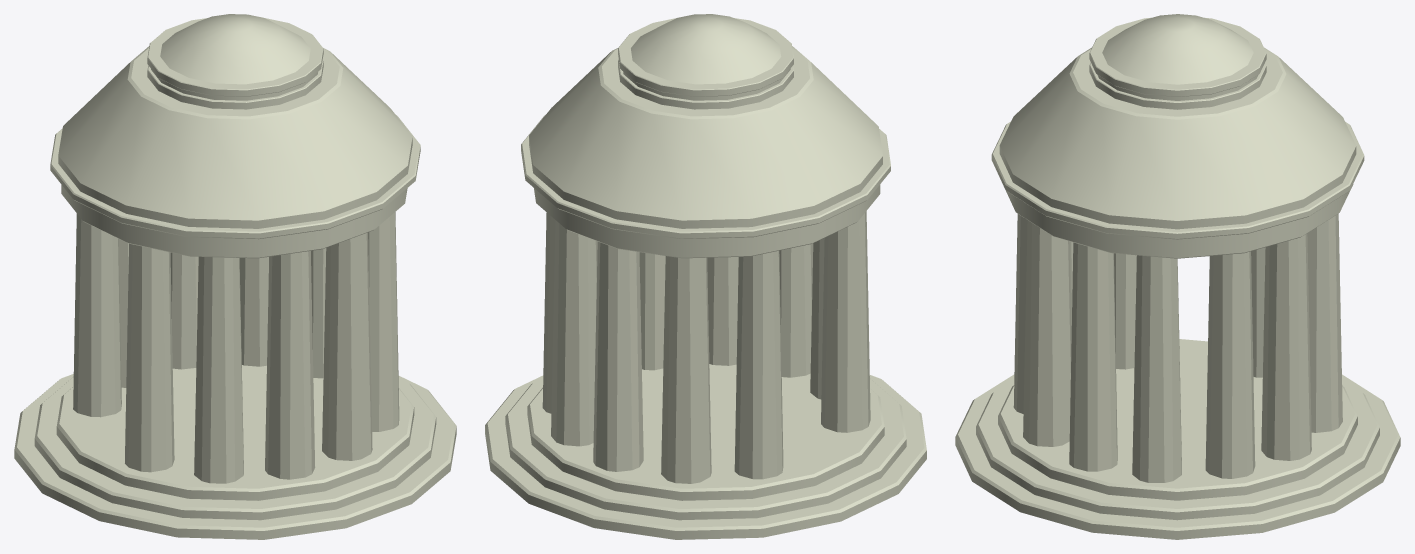
The model's file is templeOracle.fbx.
3 renders of one model, left to right at view 1: azimuth 30°, elevation 25°; view 2: azimuth 150°, elevation 25°; view 3: azimuth 270°, elevation 25°, orthographic.
Parts seen in each view (by area): view 1: templeTop_geo, templeStairs_geo, column_3_geo, column_2_geo, column_1_geo, column_4_geo, column_11_geo, column_5_geo, column_8_geo, column_9_geo, column_7_geo, column_10_geo; view 2: templeTop_geo, templeStairs_geo, column_10_geo, column_9_geo, column_11_geo, column_1_geo, column_8_geo, column_3_geo, column_4_geo, column_5_geo, column_7_geo, column_2_geo; view 3: templeTop_geo, templeStairs_geo, column_6_geo, column_7_geo, column_8_geo, column_5_geo, column_4_geo, column_9_geo, column_1_geo, column_3_geo, column_11_geo.
Part boxes in pixels (<box>): templeTop_geo: <box>50,14,420,258</box>; templeStairs_geo: <box>14,365,456,539</box>; column_3_geo: <box>265,251,315,479</box>; column_2_geo: <box>194,256,243,483</box>; column_1_geo: <box>125,243,174,472</box>; column_4_geo: <box>322,232,372,460</box>; column_11_geo: <box>73,213,121,417</box>; column_5_geo: <box>368,212,399,431</box>; column_8_geo: <box>239,257,268,366</box>; column_9_geo: <box>170,252,198,369</box>; column_7_geo: <box>311,248,326,378</box>; column_10_geo: <box>118,239,128,387</box>; templeTop_geo: <box>521,14,890,258</box>; templeStairs_geo: <box>485,364,926,539</box>; column_10_geo: <box>661,256,711,483</box>; column_9_geo: <box>593,241,643,471</box>; column_11_geo: <box>734,251,783,479</box>; column_1_geo: <box>821,211,870,432</box>; column_8_geo: <box>551,220,597,446</box>; column_3_geo: <box>779,243,813,377</box>; column_4_geo: <box>707,257,738,365</box>; column_5_geo: <box>639,252,665,370</box>; column_7_geo: <box>542,212,555,413</box>; column_2_geo: <box>810,238,824,399</box>; templeTop_geo: <box>991,14,1364,258</box>; templeStairs_geo: <box>955,339,1400,539</box>; column_6_geo: <box>1132,255,1181,482</box>; column_7_geo: <box>1205,251,1255,478</box>; column_8_geo: <box>1261,233,1311,460</box>; column_5_geo: <box>1069,242,1117,471</box>; column_4_geo: <box>1023,220,1071,446</box>; column_9_geo: <box>1307,214,1342,432</box>; column_1_geo: <box>1114,253,1136,369</box>; column_3_geo: <box>1013,214,1027,413</box>; column_11_geo: <box>1251,247,1265,377</box>.
Size of the model in its own units: 8.48 by 8.85 by 8.48.
